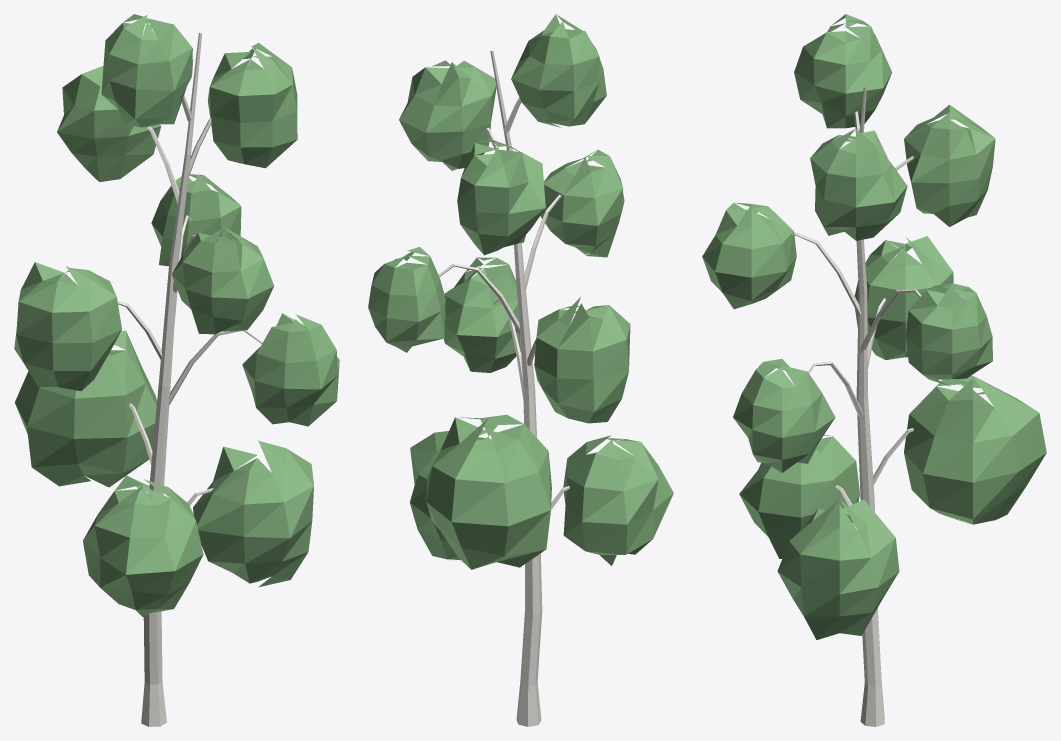
File: temperate-forest-ecology-downy-birch-young-2ddbeef9__3791.glb
3 views of the same model, side by side, from view 1: azimuth 30°, elevation 25°; view 2: azimuth 150°, elevation 25°; view 3: azimuth 270°, elevation 25° (orthographic). The views are drawn at different scales.
Visible parts, largest first — view 1: downy-birch-young; view 2: downy-birch-young; view 3: downy-birch-young.
Boxes of the visible parts, x1,y1,x2,y2 form: downy-birch-young: [14, 14, 339, 726]; downy-birch-young: [368, 14, 673, 726]; downy-birch-young: [702, 14, 1046, 726].
Bounding box in the file's own units: 3.1 × 8.2 × 3.69.
